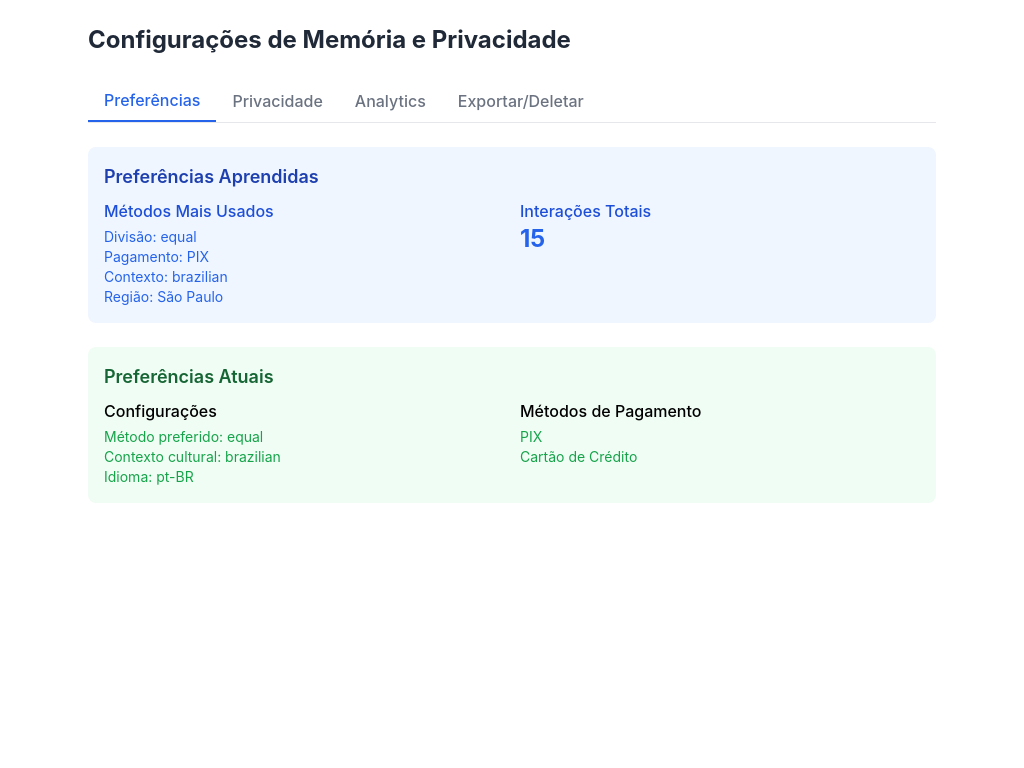
Test: MemoryContextUI Component - Story 6 › Basic Functionality Tests › should handle tab navigation
Expected: the button "Preferências" is shown, [88, 80, 216, 122]
Expected: the heading "Preferências Aprendidas" is shown, [104, 166, 319, 187]
Note: Privacy tab
Click the button "Privacidade": x=278, y=101 [216, 80, 339, 122]
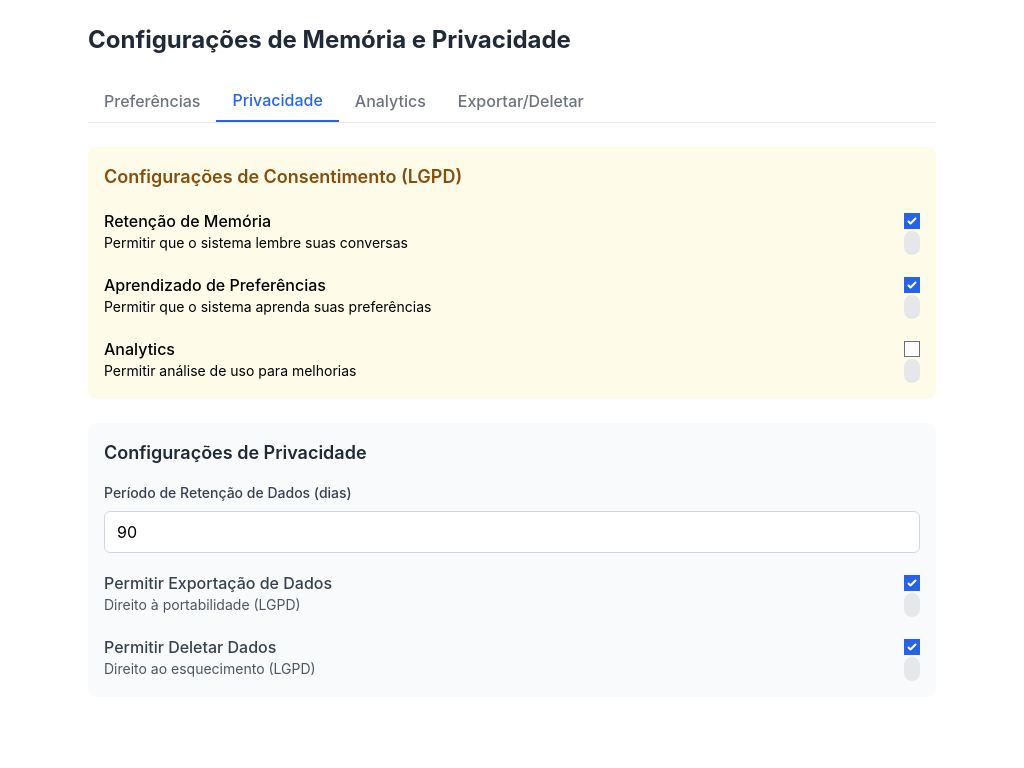
Now the heading "Configurações de Consentimento (LGPD)" is shown, box [104, 166, 462, 187]
Note: Analytics tab
Click the button "Analytics": x=390, y=101 [339, 80, 442, 122]
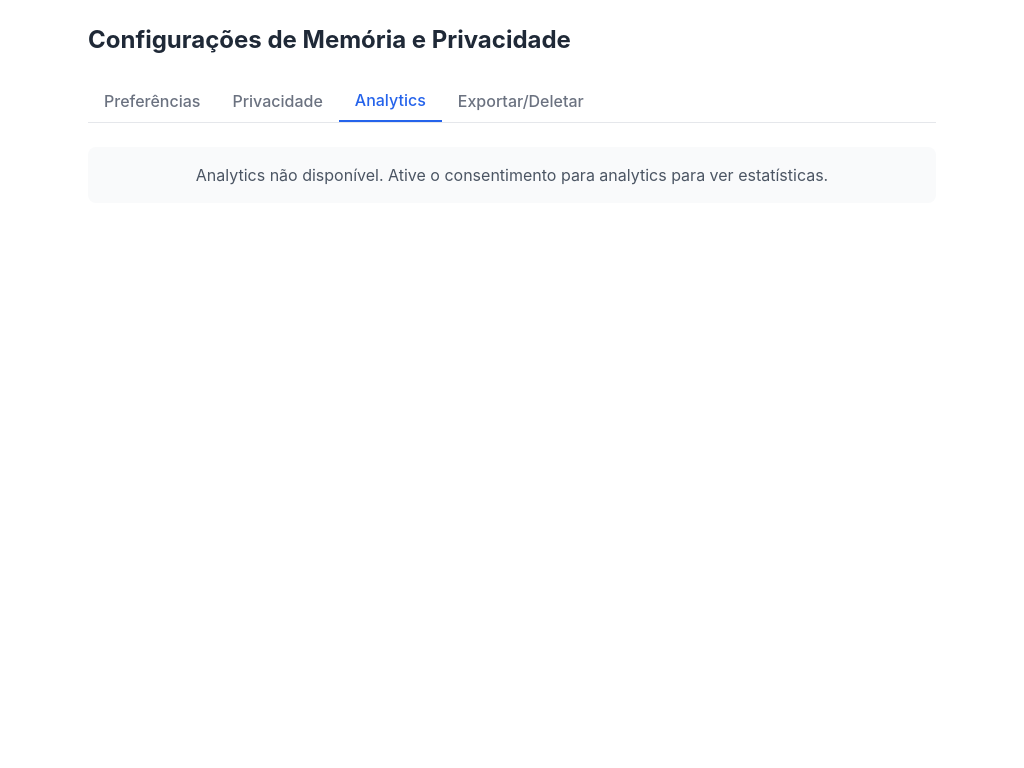
Note: Export/Delete tab
Click the button "Exportar/Deletar": x=521, y=101 [442, 80, 600, 122]
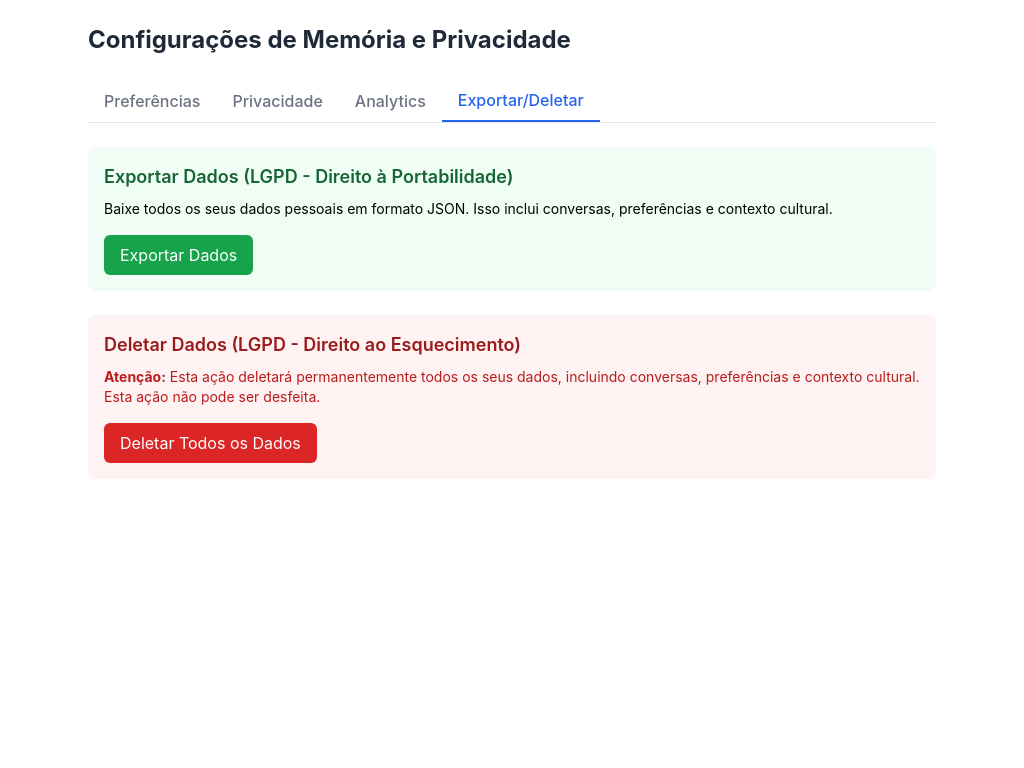
Now the heading "Exportar Dados (LGPD - Direito à Portabilidade)" is shown, box [104, 166, 514, 187]
Now the heading "Deletar Dados (LGPD - Direito ao Esquecimento)" is shown, box [104, 334, 521, 355]
